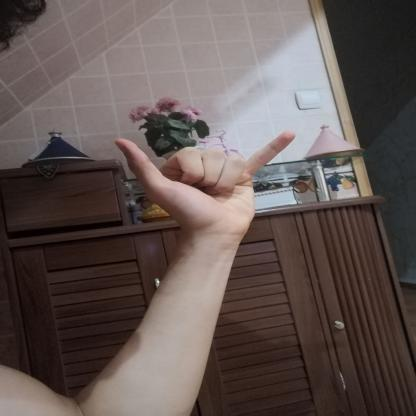YA: (101, 120, 309, 247)
